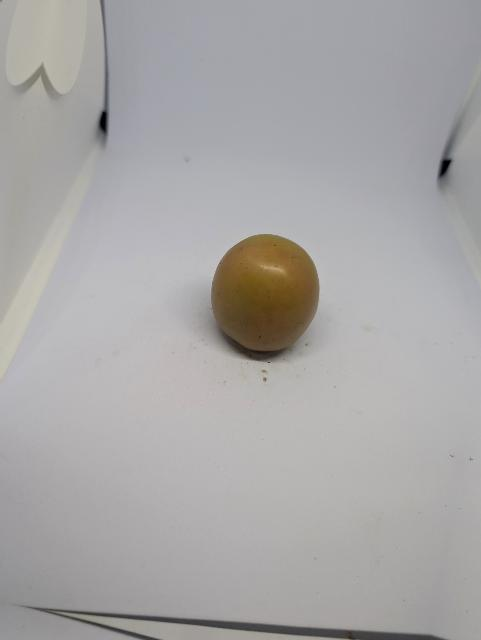turning: (204, 229, 335, 365)
